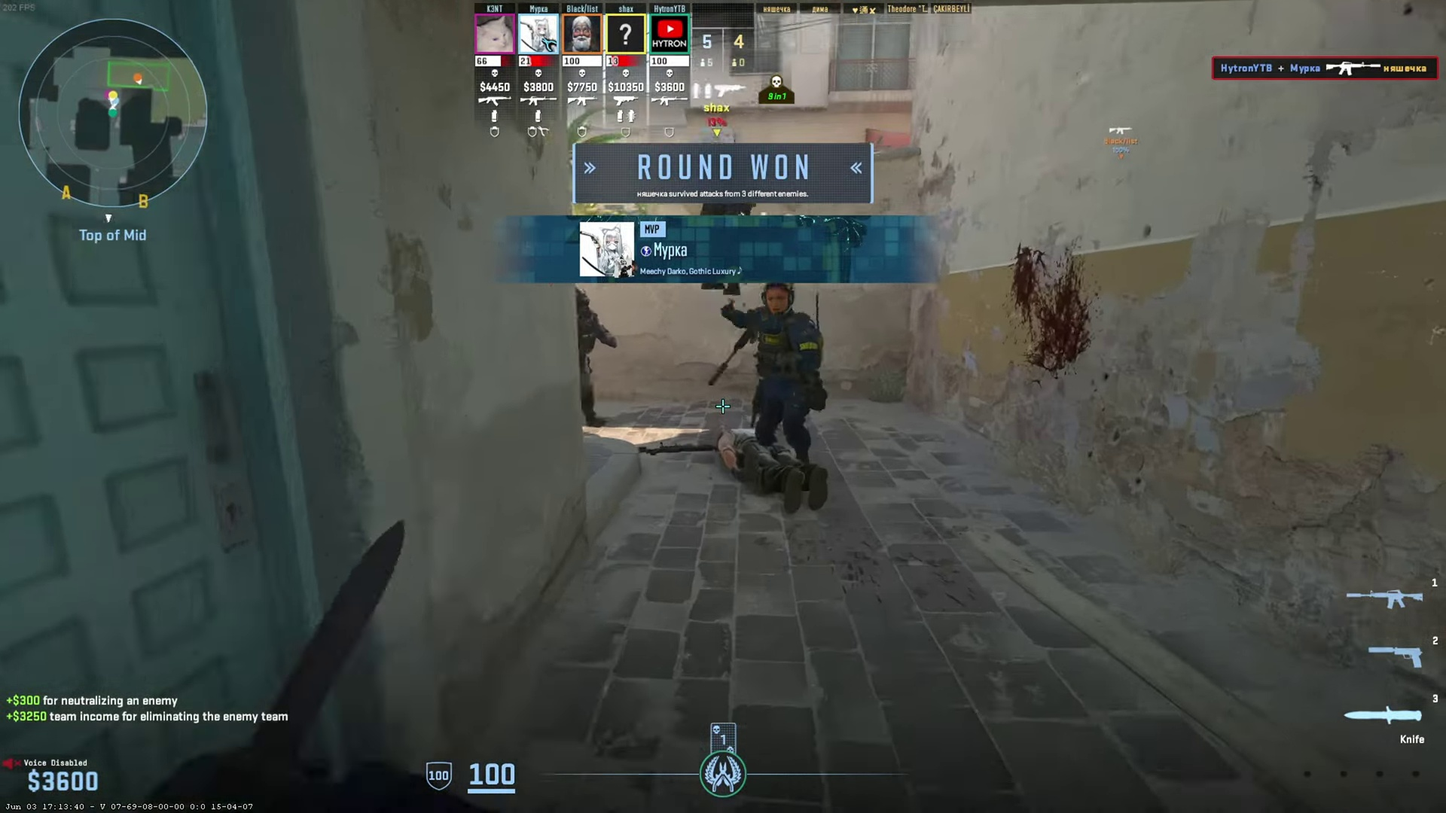CT: (747, 284, 822, 463), (576, 284, 612, 426)
